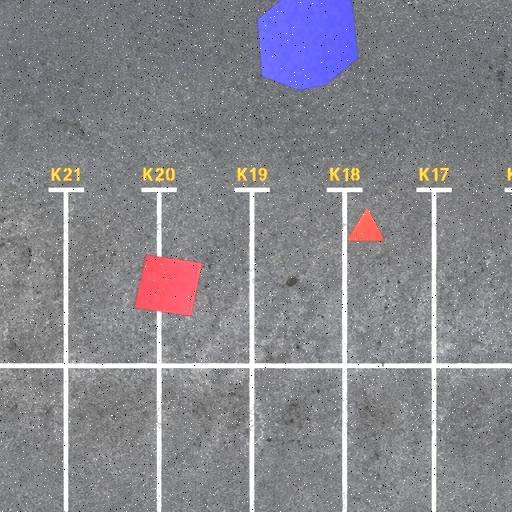RED_SQUARE: (133, 254, 202, 316)
